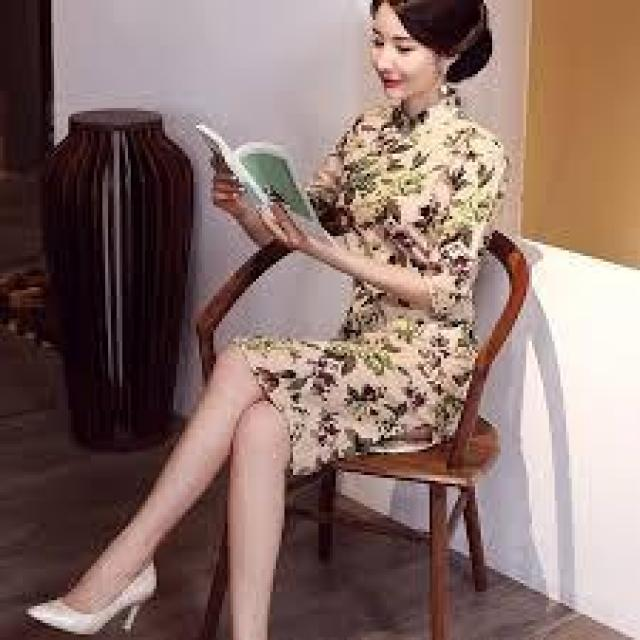dress: (250, 97, 518, 475)
